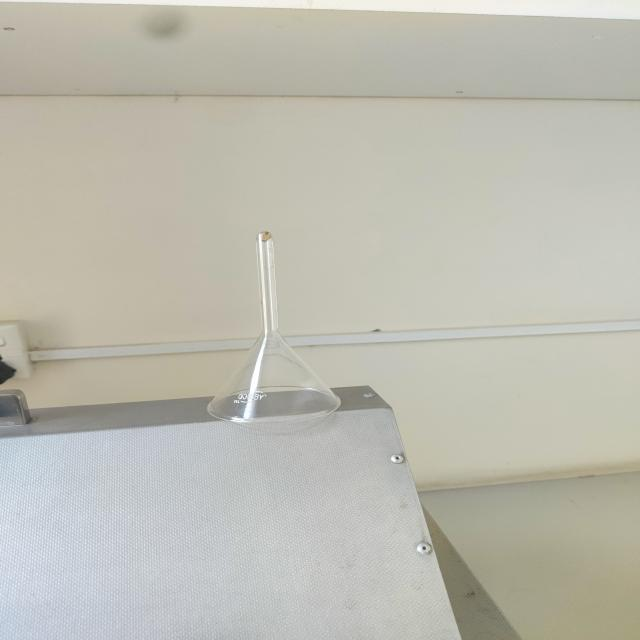Funnel: (180, 212, 376, 448)
